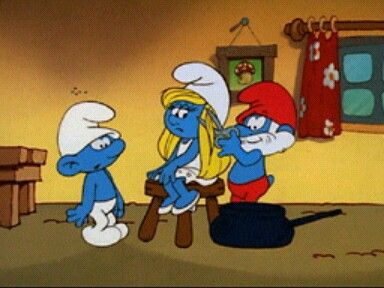smurf: (148, 60, 229, 218), (55, 99, 129, 247), (229, 82, 298, 203)
